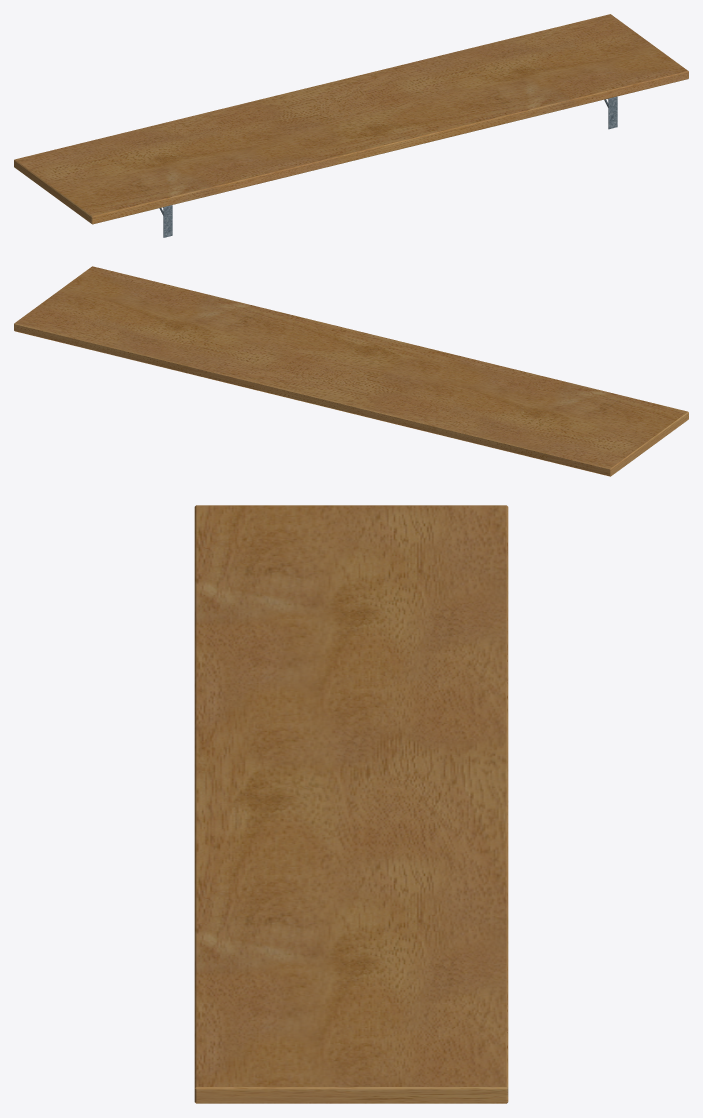
The model's file is regal.fbx.
The picture shows the model from 3 angles, top to bottom: view 1: azimuth 30°, elevation 25°; view 2: azimuth 150°, elevation 25°; view 3: azimuth 270°, elevation 25°; orthographic projection. The views are drawn at different scales.
Parts seen in each view (by area): view 1: Mesh; view 2: Mesh; view 3: Mesh.
Part boxes in pixels (x1,y1,x2,y2): Mesh: (14,14,688,237); Mesh: (14,266,688,476); Mesh: (194,505,508,1103).
Size of the model in its own units: 83.5 by 5.17 by 19.
